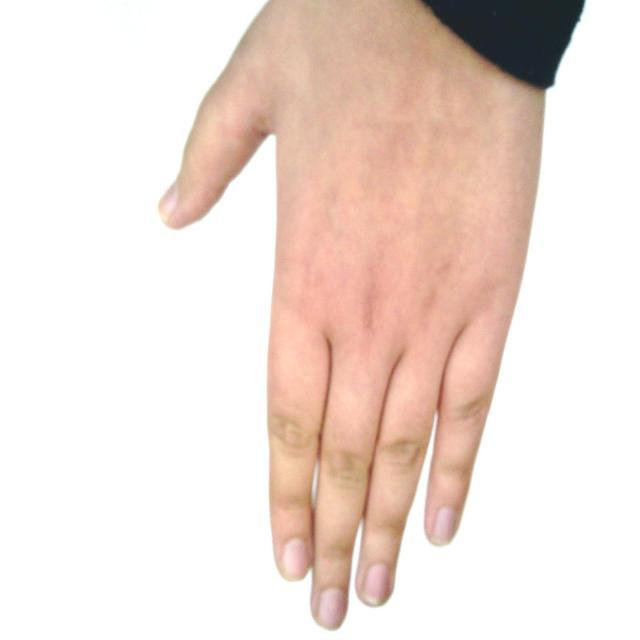Fingernail: (361, 565, 390, 606), (319, 589, 345, 630), (283, 539, 309, 580), (431, 507, 456, 546), (159, 185, 177, 218)
